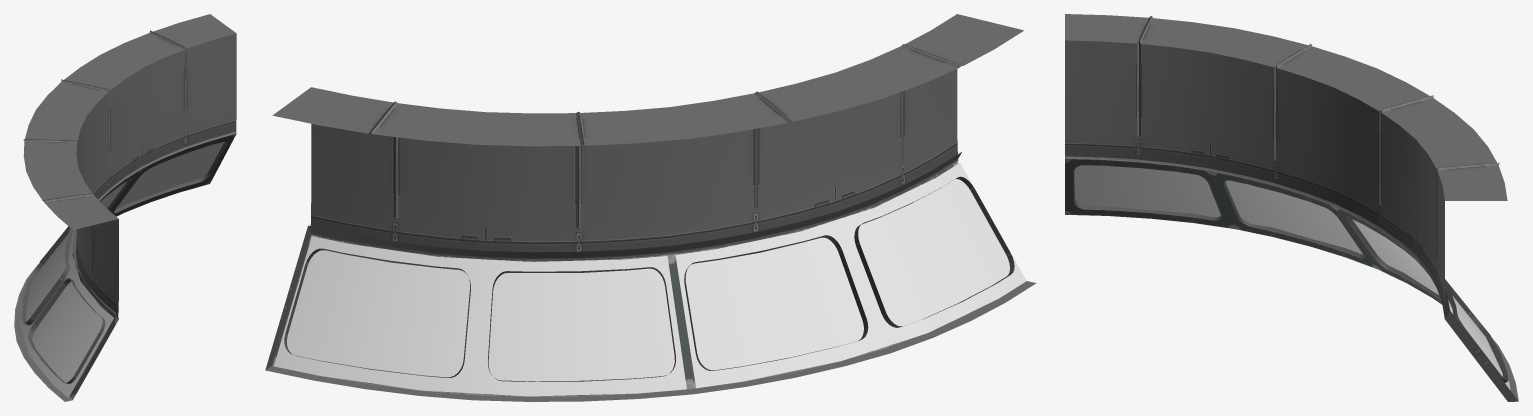
Rendered from S_TopWindowCornerCurveInner.gltf.
3 renders of one model, left to right at view 1: azimuth 30°, elevation 25°; view 2: azimuth 150°, elevation 25°; view 3: azimuth 270°, elevation 25°, orthographic. The views are drawn at different scales.
Visible parts, largest first — view 1: Plane_173-col; view 2: Plane_173-col; view 3: Plane_173-col.
Part boxes in pixels (x1=…): Plane_173-col: x1=14, y1=14, x2=236, y2=401; Plane_173-col: x1=265, y1=14, x2=1036, y2=401; Plane_173-col: x1=1065, y1=14, x2=1518, y2=401.
Size of the model in its own units: 4.1 by 2.02 by 4.1.
4 materials, 3 textured.
